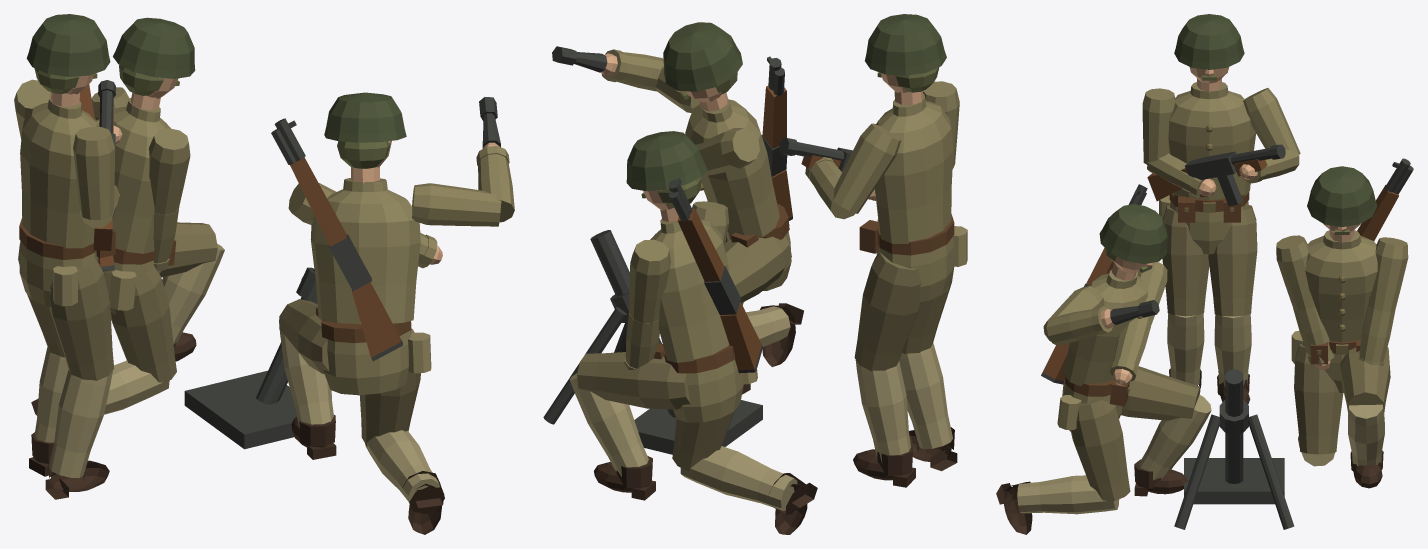
Rendered from us_mortar_team.obj.
The picture shows the model from 3 angles, left to right: view 1: azimuth 30°, elevation 25°; view 2: azimuth 150°, elevation 25°; view 3: azimuth 270°, elevation 25°; orthographic projection. The views are drawn at different scales.
Size of the model in its own units: 1.85 by 2 by 1.83.
